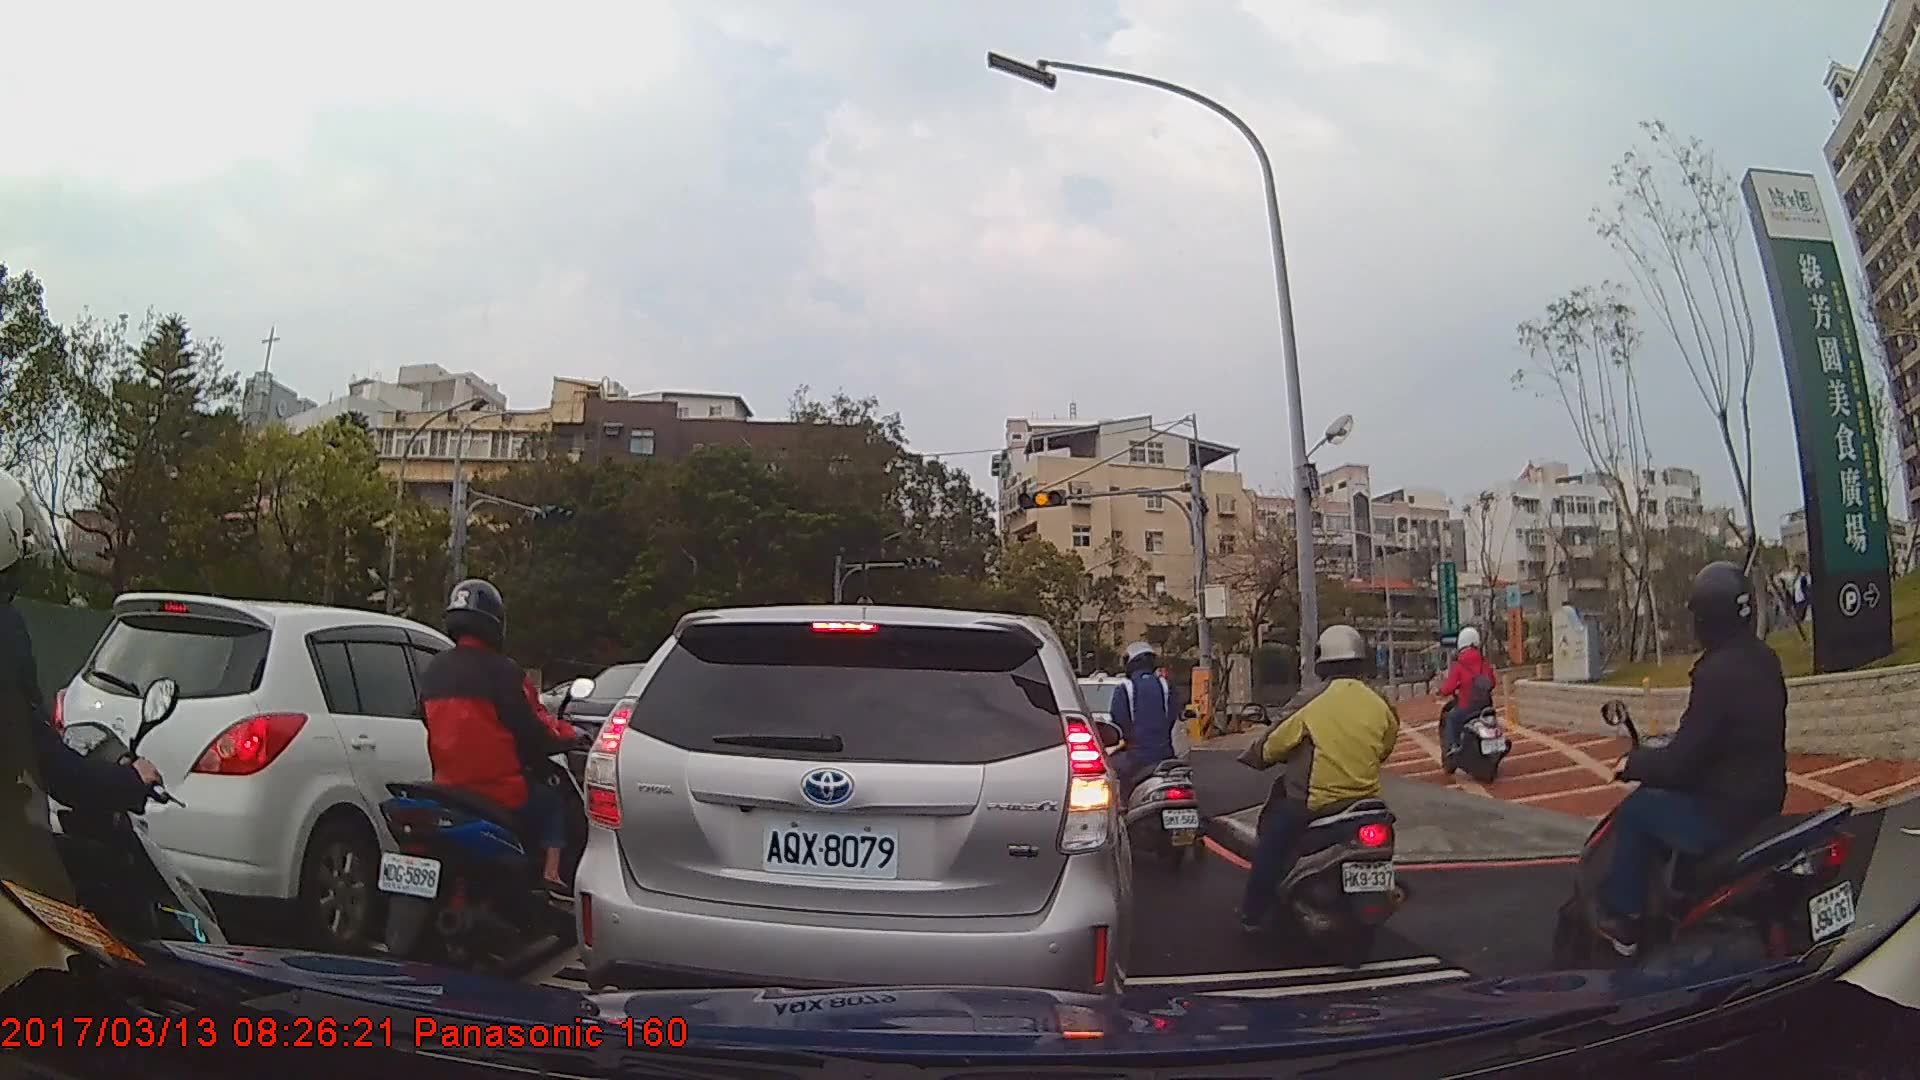pedestrian: (1778, 554, 1821, 626)
rider: (1, 470, 234, 1080), (1566, 558, 1868, 1019), (377, 573, 599, 981), (1234, 623, 1415, 955), (1100, 641, 1208, 866), (1434, 627, 1512, 784)
vehicle: (572, 603, 1134, 1030), (45, 591, 578, 955)
